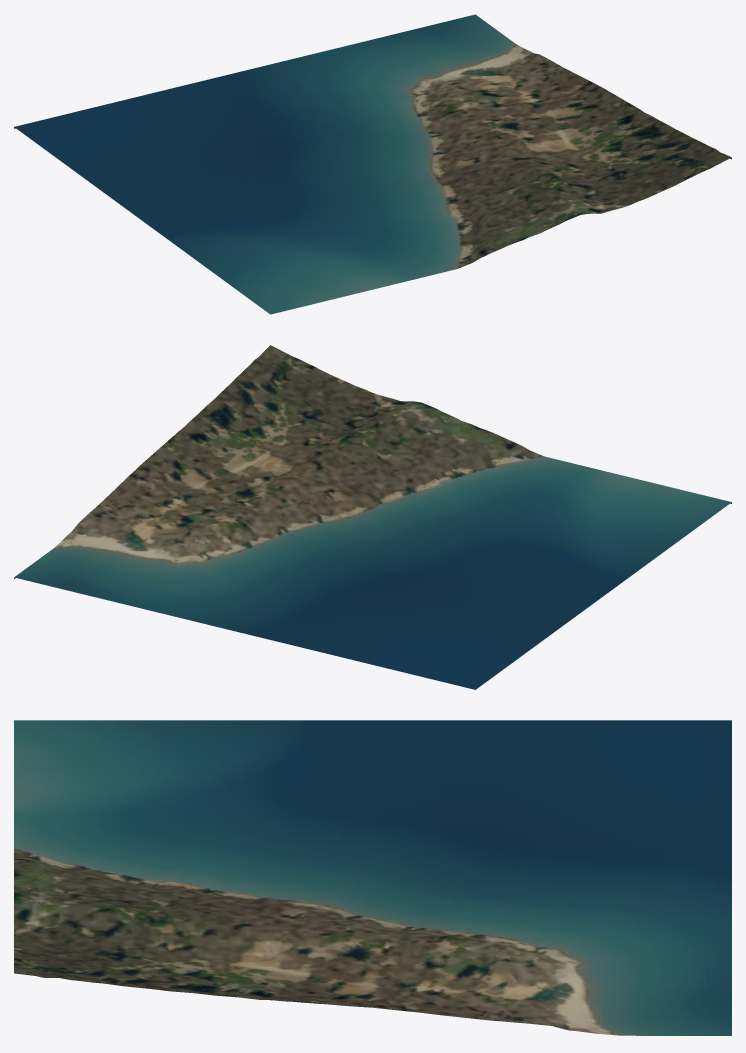
3 renders of one model, top to bottom at view 1: azimuth 30°, elevation 25°; view 2: azimuth 150°, elevation 25°; view 3: azimuth 270°, elevation 25°, orthographic. The views are drawn at different scales.
Bounding box in the file's own units: 250 × 24.1 × 241.
Materials: 1 (1 with a texture image).
